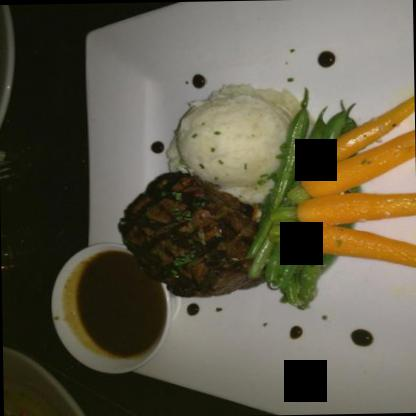carrot: (280, 114, 414, 204), (314, 58, 414, 162), (269, 223, 415, 275), (286, 186, 416, 226)
